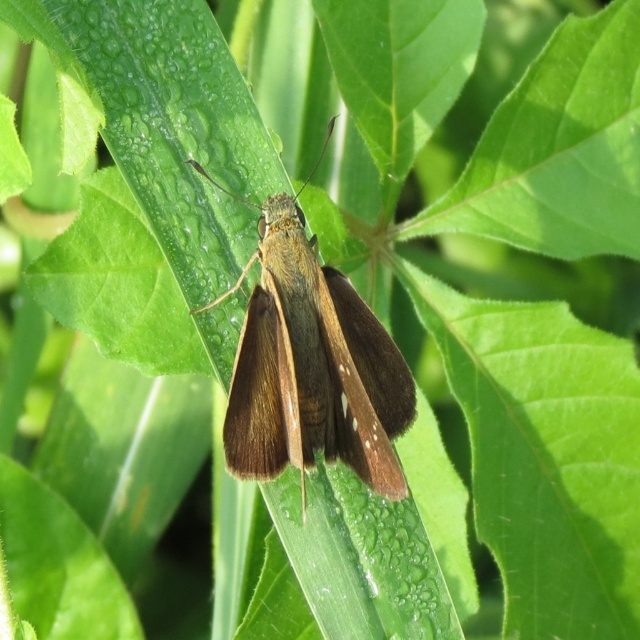Butterfly: (218, 135, 424, 516)
